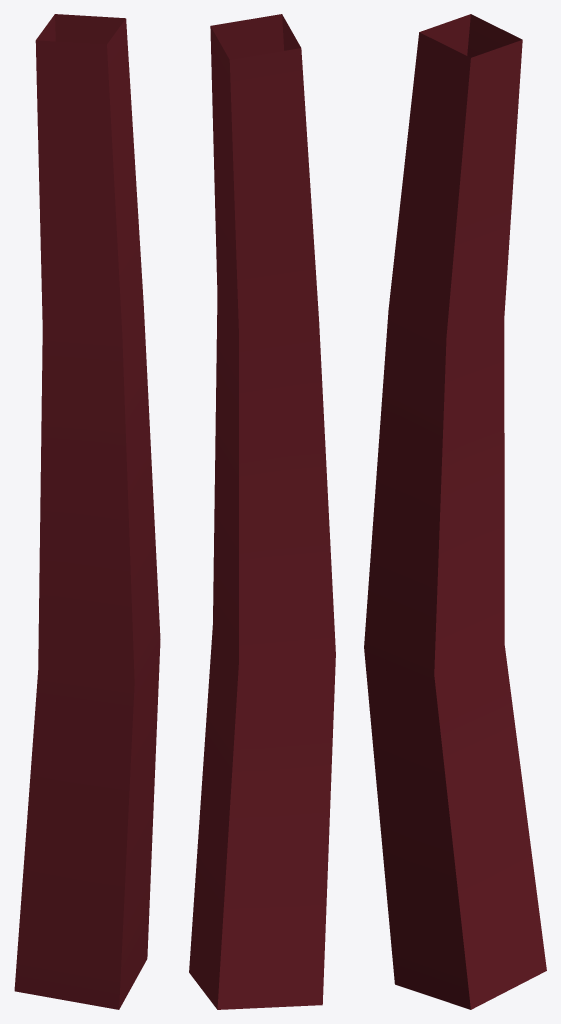
File: dressing_tail_root_mobile.glb
3 renders of one model, left to right at view 1: azimuth 30°, elevation 25°; view 2: azimuth 150°, elevation 25°; view 3: azimuth 270°, elevation 25°, orthographic.
Visible parts, largest first — view 1: dressing_tail_root_mobile; view 2: dressing_tail_root_mobile; view 3: dressing_tail_root_mobile.
Boxes of the visible parts, x1=… form: dressing_tail_root_mobile: x1=14, y1=14, x2=160, y2=1009; dressing_tail_root_mobile: x1=189, y1=14, x2=335, y2=1009; dressing_tail_root_mobile: x1=364, y1=14, x2=546, y2=1009.
Size of the model in its own units: 0.025 by 0.1719 by 0.0299.
